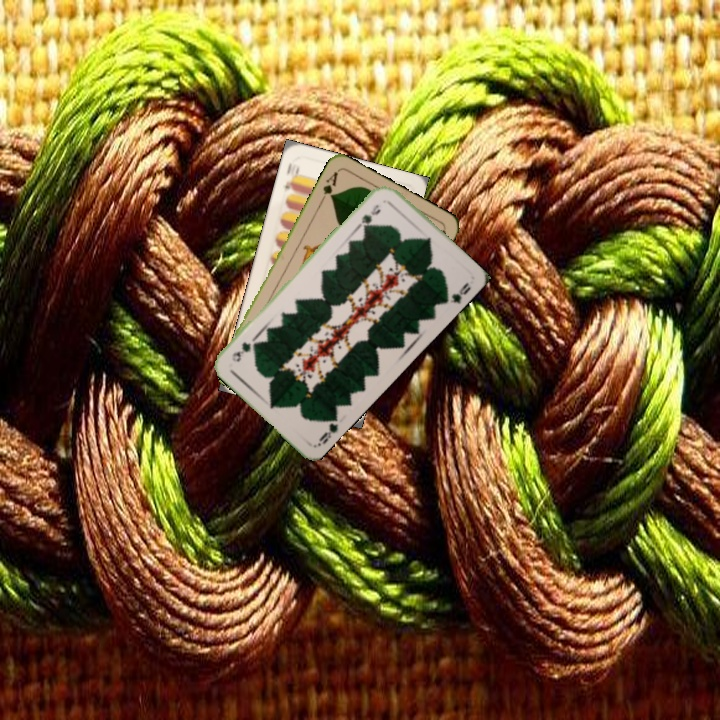E10: (281, 158, 302, 195)
G9: (313, 411, 341, 449), (357, 200, 383, 230)
GA: (316, 167, 341, 205)
